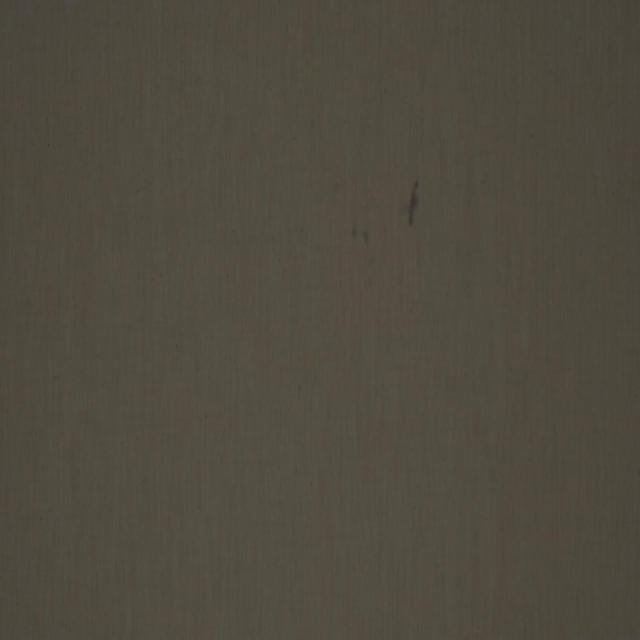dirty: (408, 174, 420, 231)
